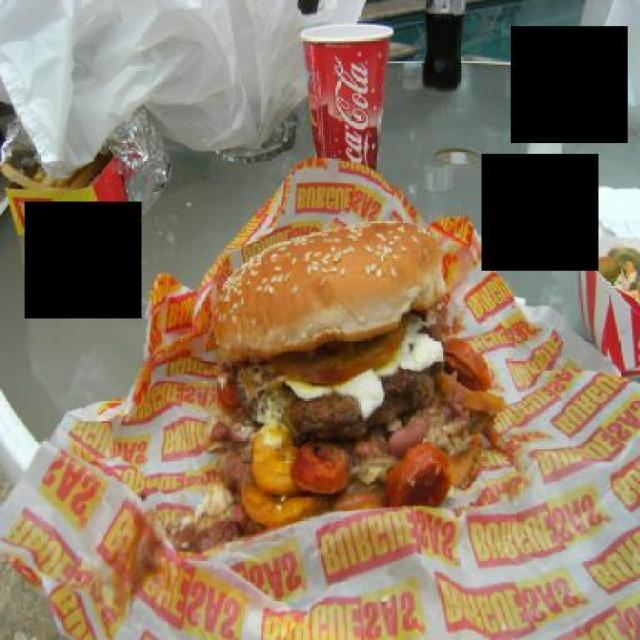plastic bag: (0, 0, 365, 177), (563, 0, 640, 135)
